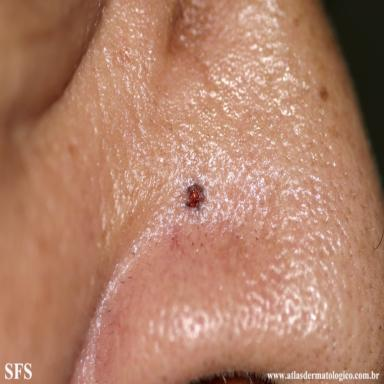basal-cell-carcinoma: (185, 177, 205, 210)
